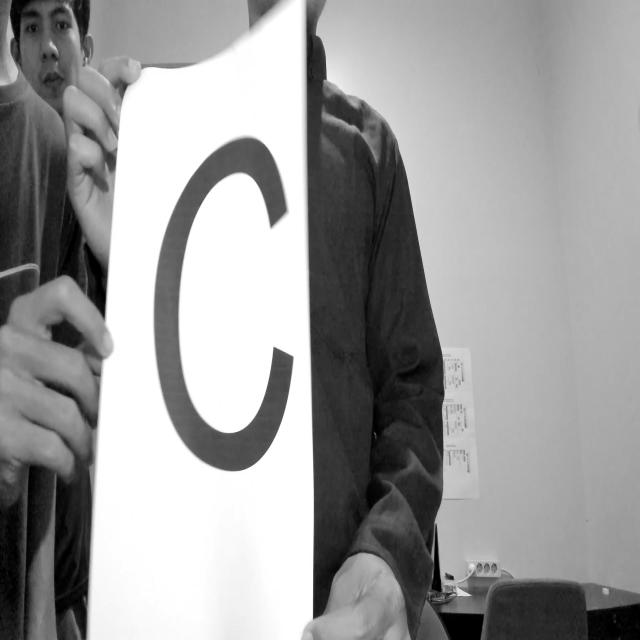c: (137, 114, 313, 489)
